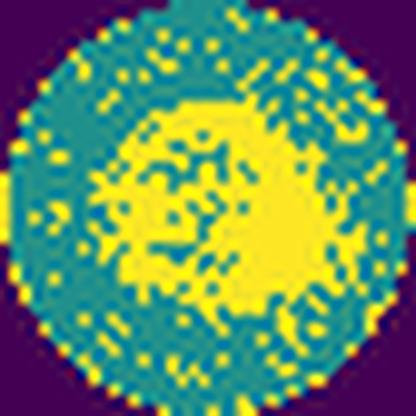Center: (87, 96, 343, 313)
